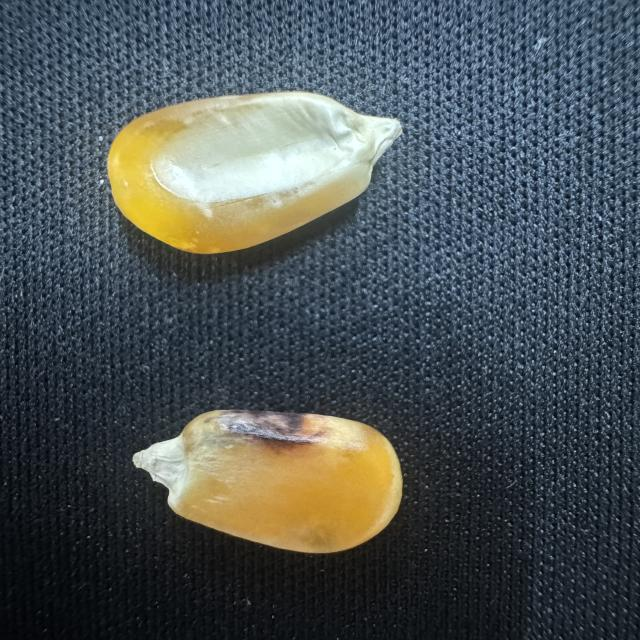Bad-Seed: (106, 399, 431, 565)
Good-Seed: (89, 80, 414, 266)
